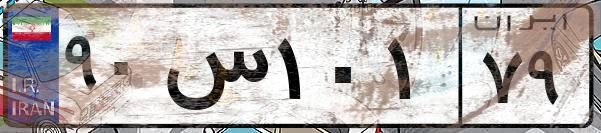0: (330, 28, 385, 110), (110, 28, 158, 98)
1: (270, 28, 330, 110), (385, 28, 445, 110)
7: (475, 38, 525, 113)
9: (57, 26, 110, 100), (525, 38, 570, 115)
س: (158, 20, 270, 120)
